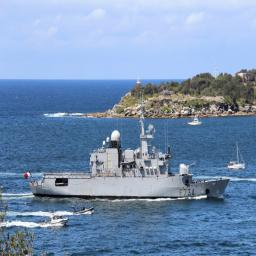Fragata: (27, 102, 232, 202)
